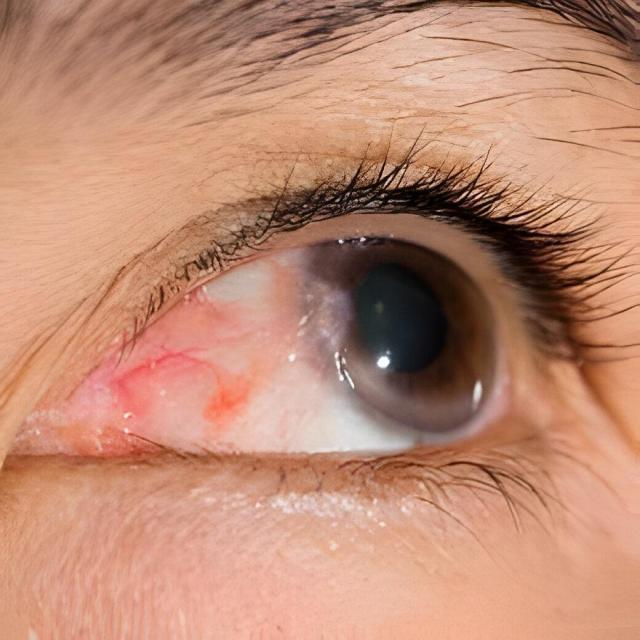Pterygium: (74, 261, 374, 439)
